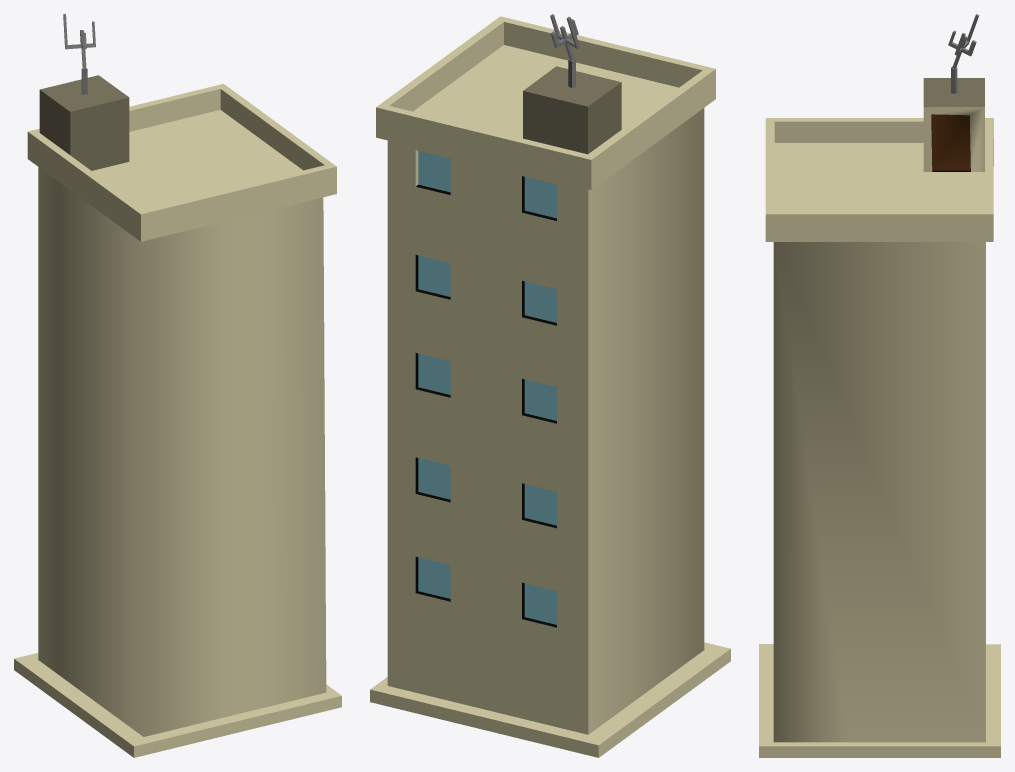
3 renders of one model, left to right at view 1: azimuth 30°, elevation 25°; view 2: azimuth 150°, elevation 25°; view 3: azimuth 270°, elevation 25°, orthographic. The views are drawn at different scales.
Visible parts, largest first — view 1: Circle.003; view 2: Circle.003; view 3: Circle.003.
Part boxes in pixels (x1,y1,x2,y2): Circle.003: (14, 14, 341, 757); Circle.003: (370, 14, 730, 757); Circle.003: (759, 14, 1000, 757).
Size of the model in its own units: 438 by 1318 by 438.
